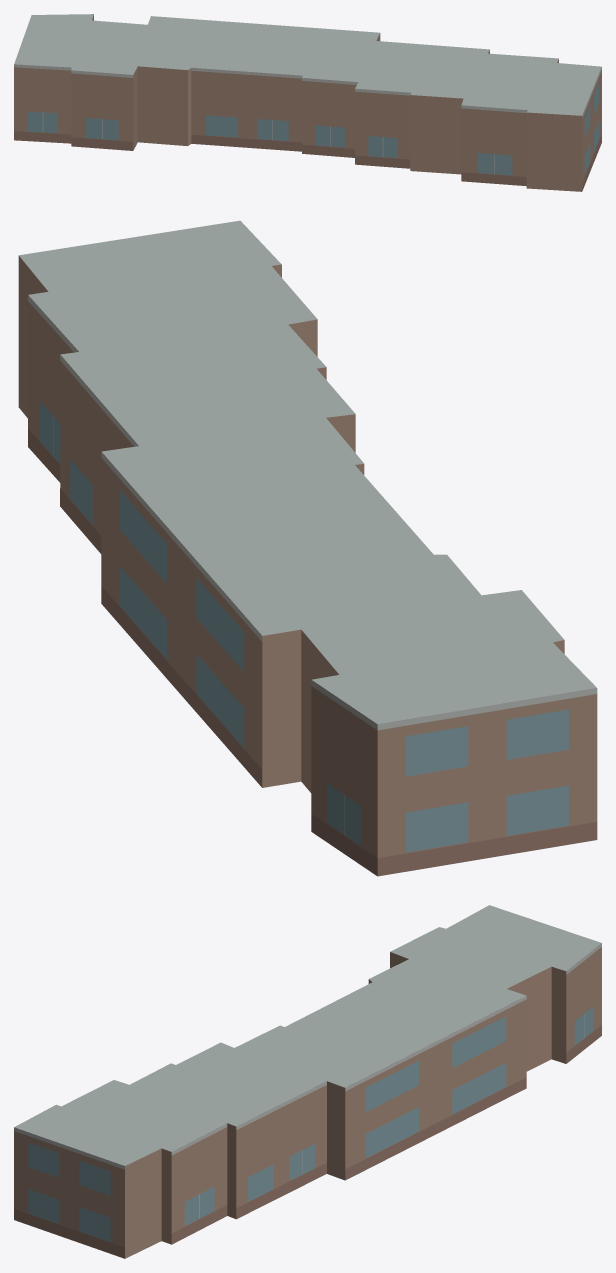
The model's file is survey-upis-32607390.glb.
3 views of the same model, one above another, from view 1: azimuth 30°, elevation 25°; view 2: azimuth 150°, elevation 25°; view 3: azimuth 270°, elevation 25° (orthographic). The views are drawn at different scales.
Visible parts, largest first — view 1: survey-upis-32607390.tmp; view 2: survey-upis-32607390.tmp; view 3: survey-upis-32607390.tmp.
Part boxes in pixels (x1,y1,x2,y2): survey-upis-32607390.tmp: [14, 14, 601, 191]; survey-upis-32607390.tmp: [18, 220, 597, 876]; survey-upis-32607390.tmp: [14, 905, 601, 1258].
Size of the model in its own units: 36.83 by 6.1 by 35.05.
